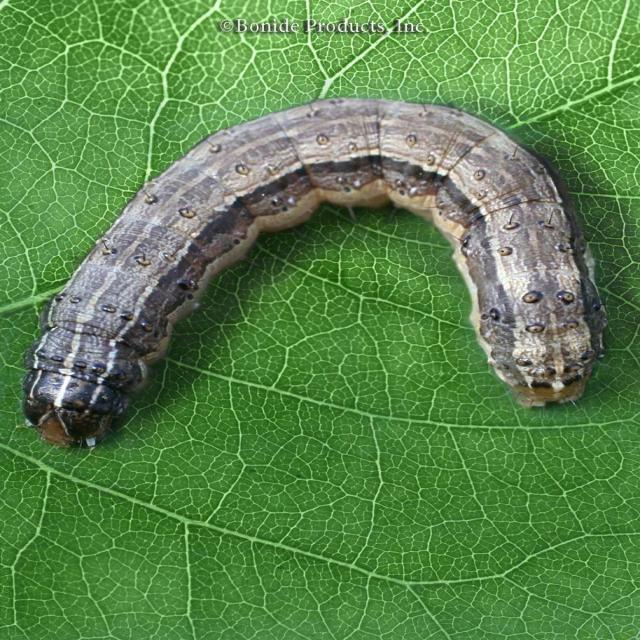pest-armyworm: (20, 92, 612, 461)
